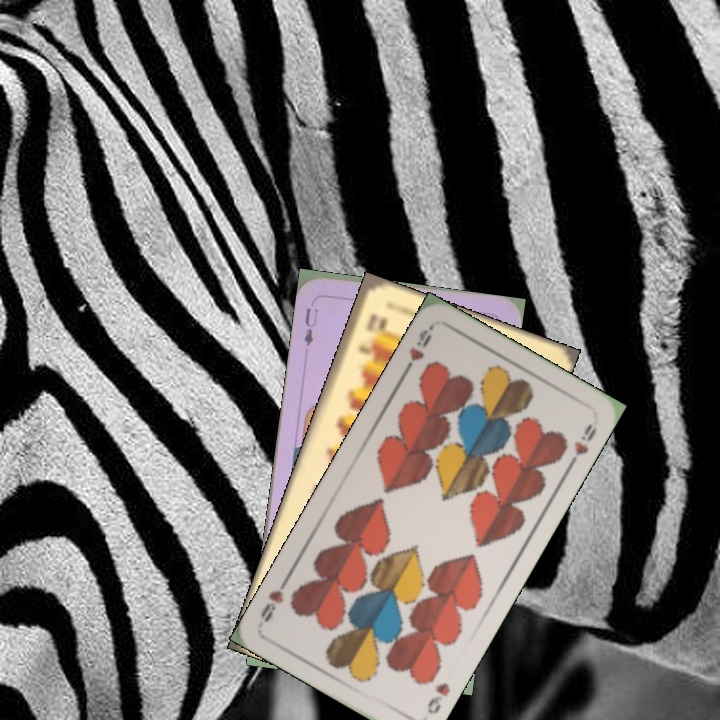E10: (354, 310, 385, 357)
EU: (300, 303, 321, 349)
H9: (400, 322, 436, 376), (423, 678, 454, 717)
